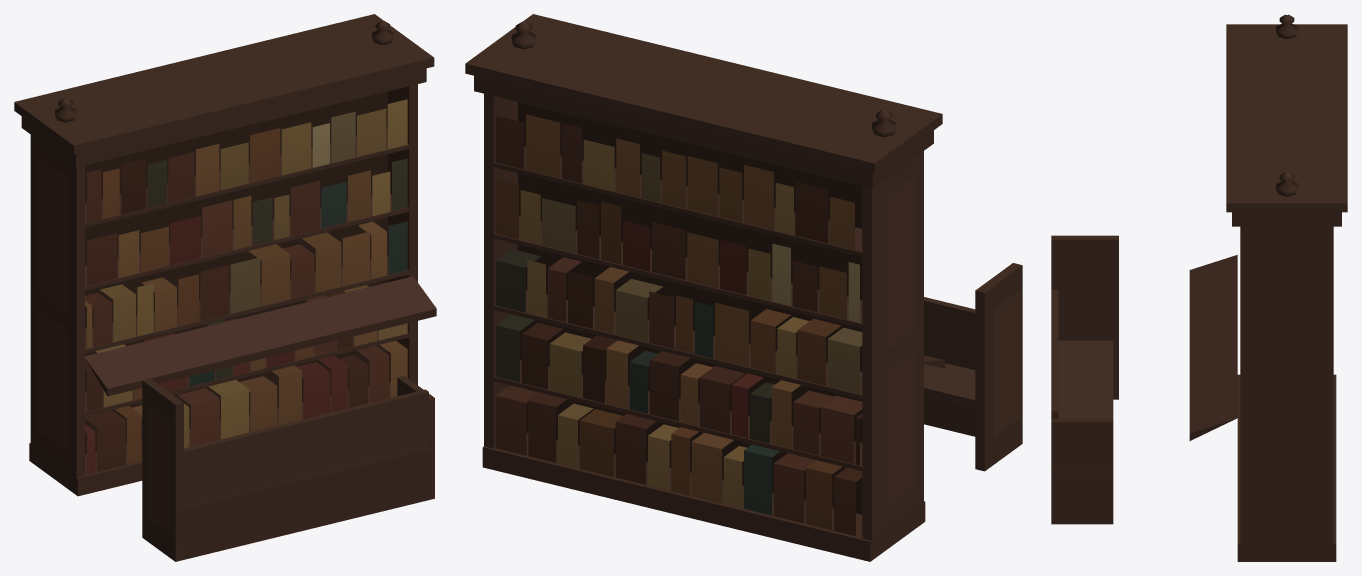
The model's file is bookcase.press.walnut.glb.
3 views of the same model, side by side, from view 1: azimuth 30°, elevation 25°; view 2: azimuth 150°, elevation 25°; view 3: azimuth 270°, elevation 25° (orthographic). The views are drawn at different scales.
Parts seen in each view (by area): view 1: bookcase_press_walnut; view 2: bookcase_press_walnut; view 3: bookcase_press_walnut.
Part boxes in pixels (x1,y1,x2,y2): bookcase_press_walnut: (14, 14, 436, 561); bookcase_press_walnut: (465, 14, 1022, 561); bookcase_press_walnut: (1051, 14, 1347, 561).
Size of what is drawn, in the model's own units: 3 by 3 by 2.1.
